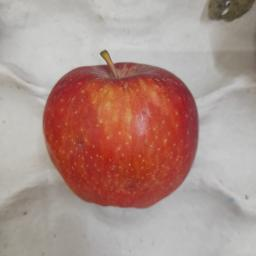Apple Semifresh: (41, 51, 208, 215)
